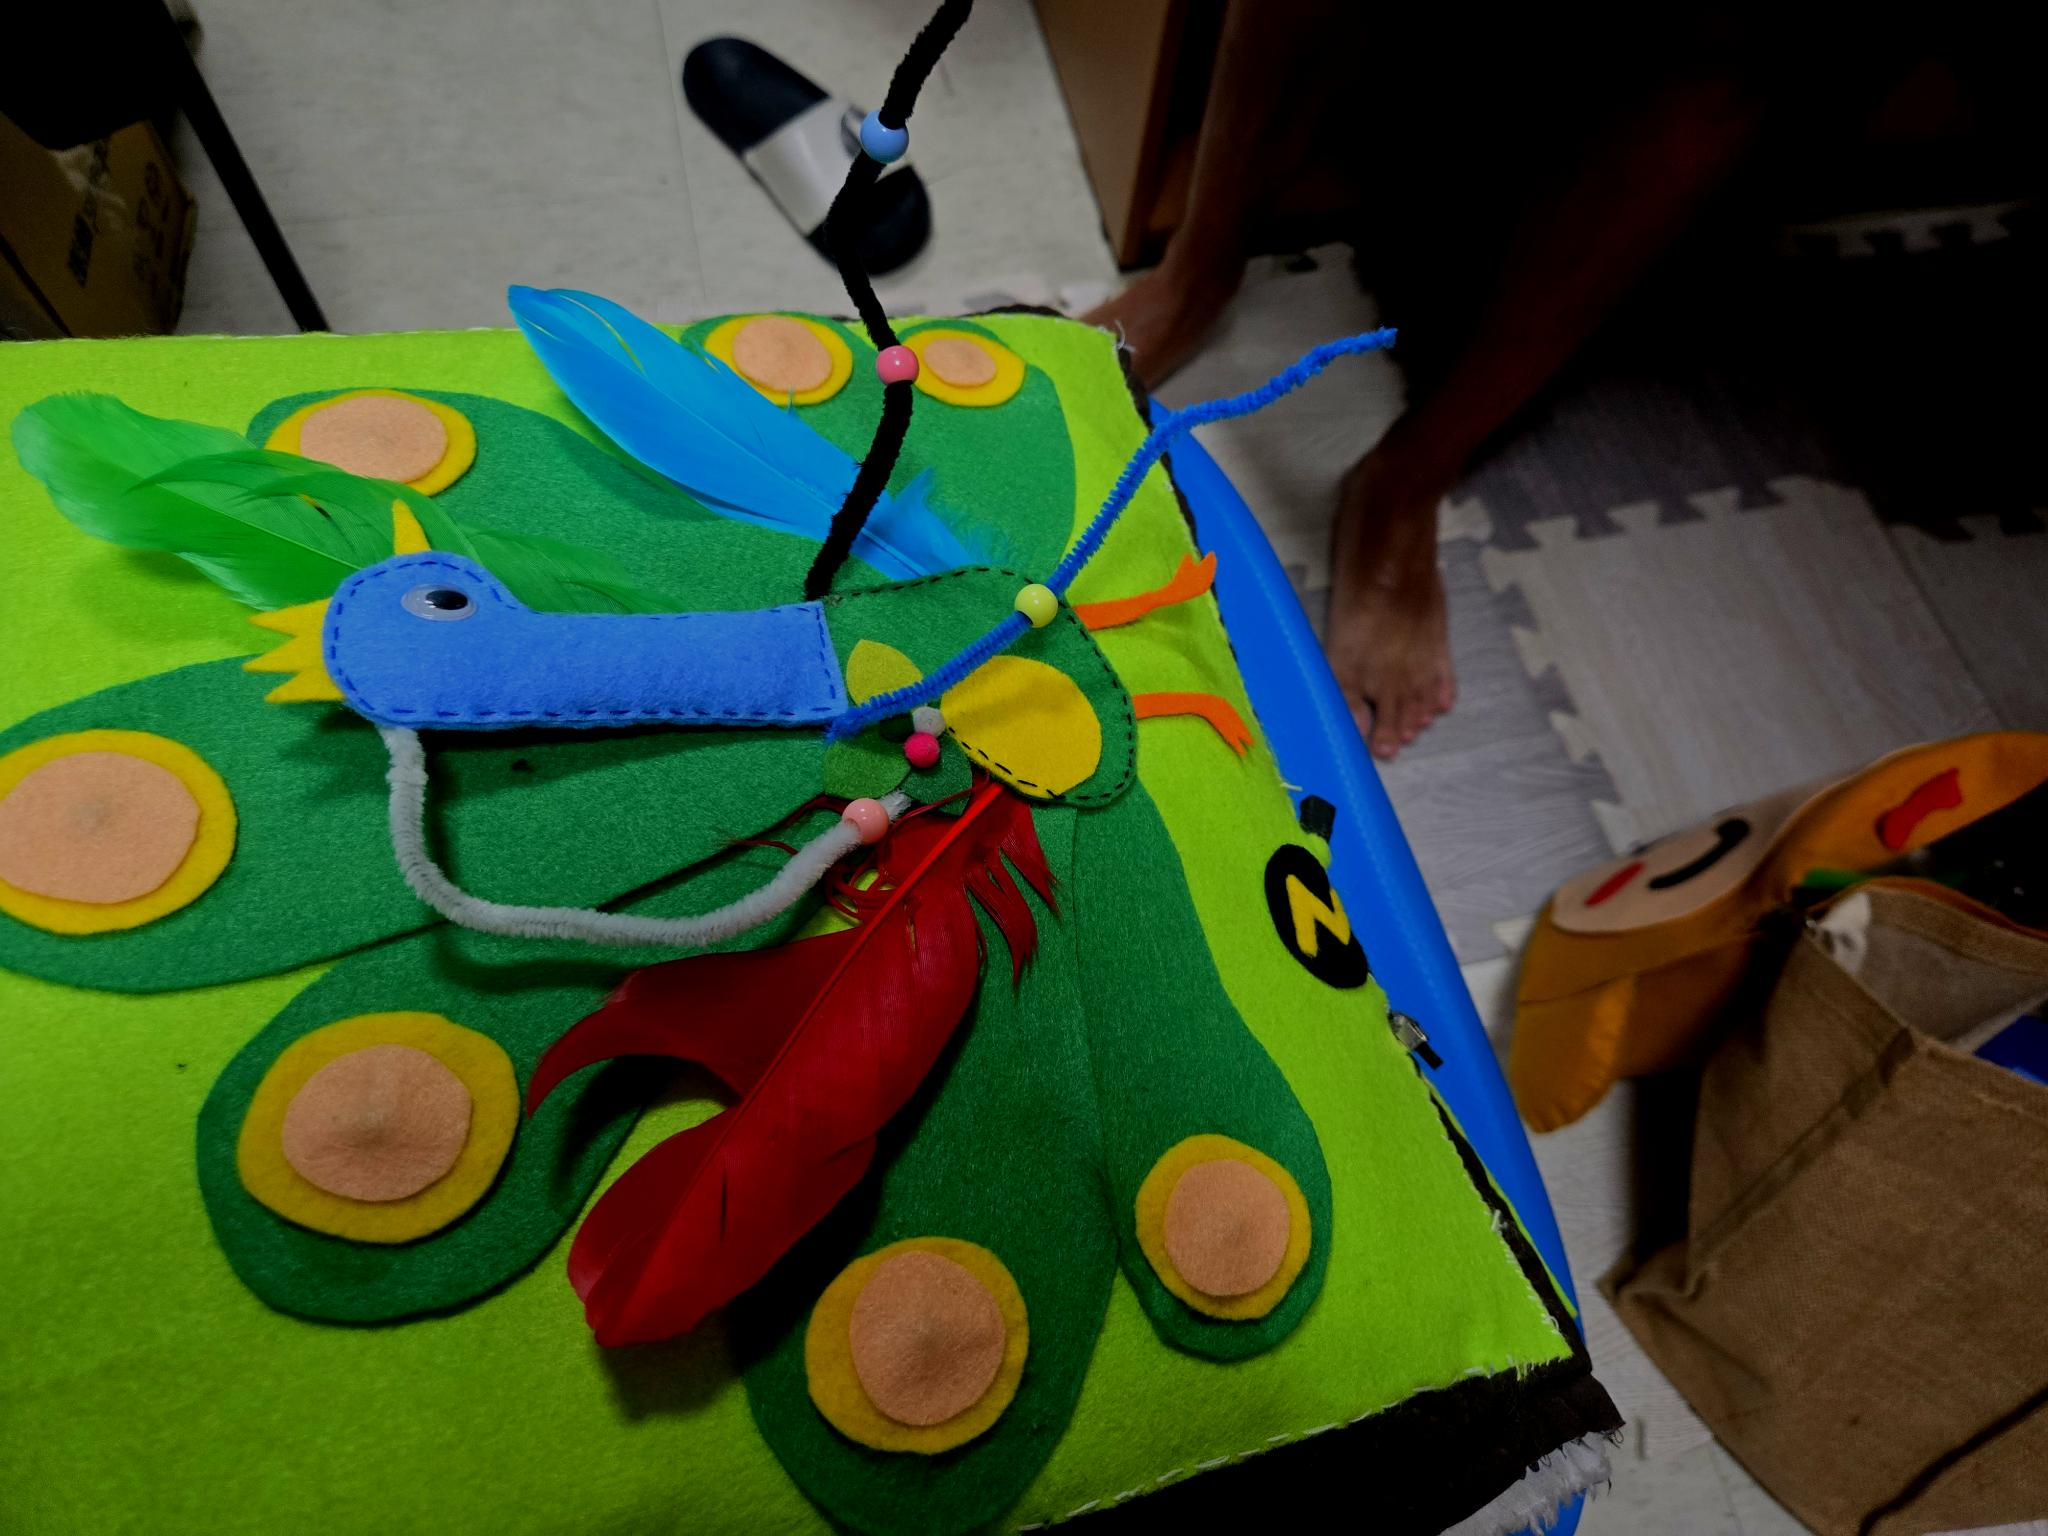bead: (818, 779, 906, 854), (845, 95, 919, 179), (1008, 565, 1077, 634), (872, 334, 921, 408)
